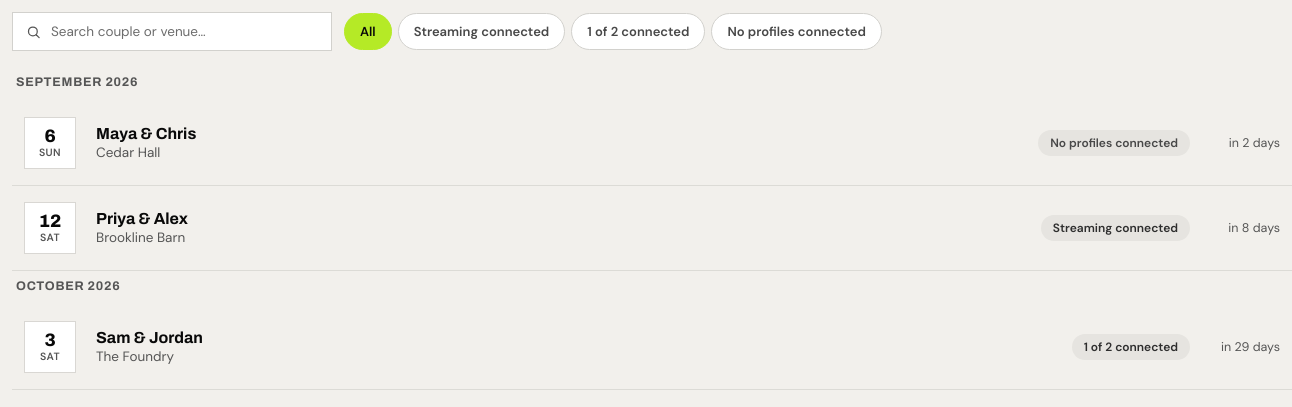
Test case: UpcomingEventsList › filters by a status pill and marks it pressed
Click the button "Streaming connected".
click(482, 32)  # box top-left (398, 13), bottom-right (565, 50)
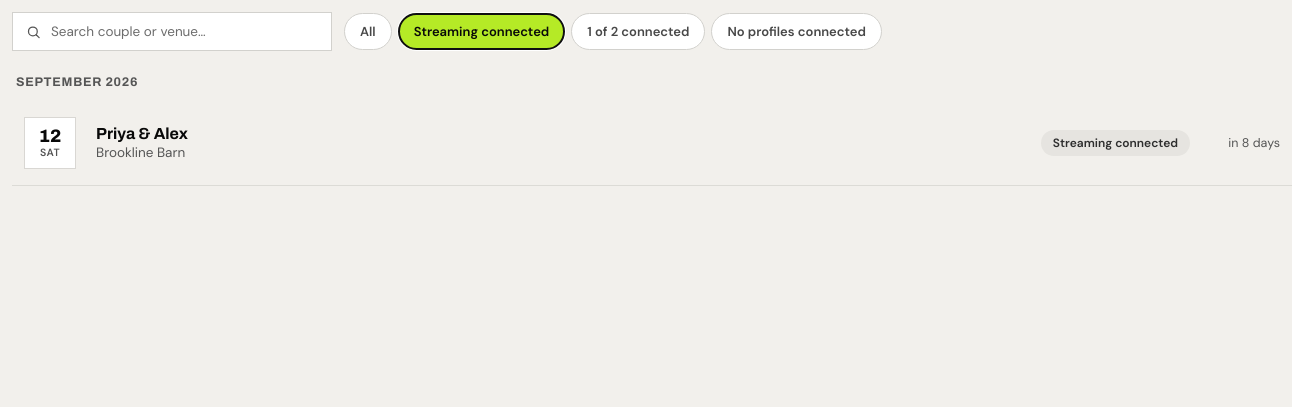
Expected: the text "Priya & Alex" is shown, top-left (96, 125), bottom-right (188, 142)
Expected: the link "Maya & Chris" is gone
